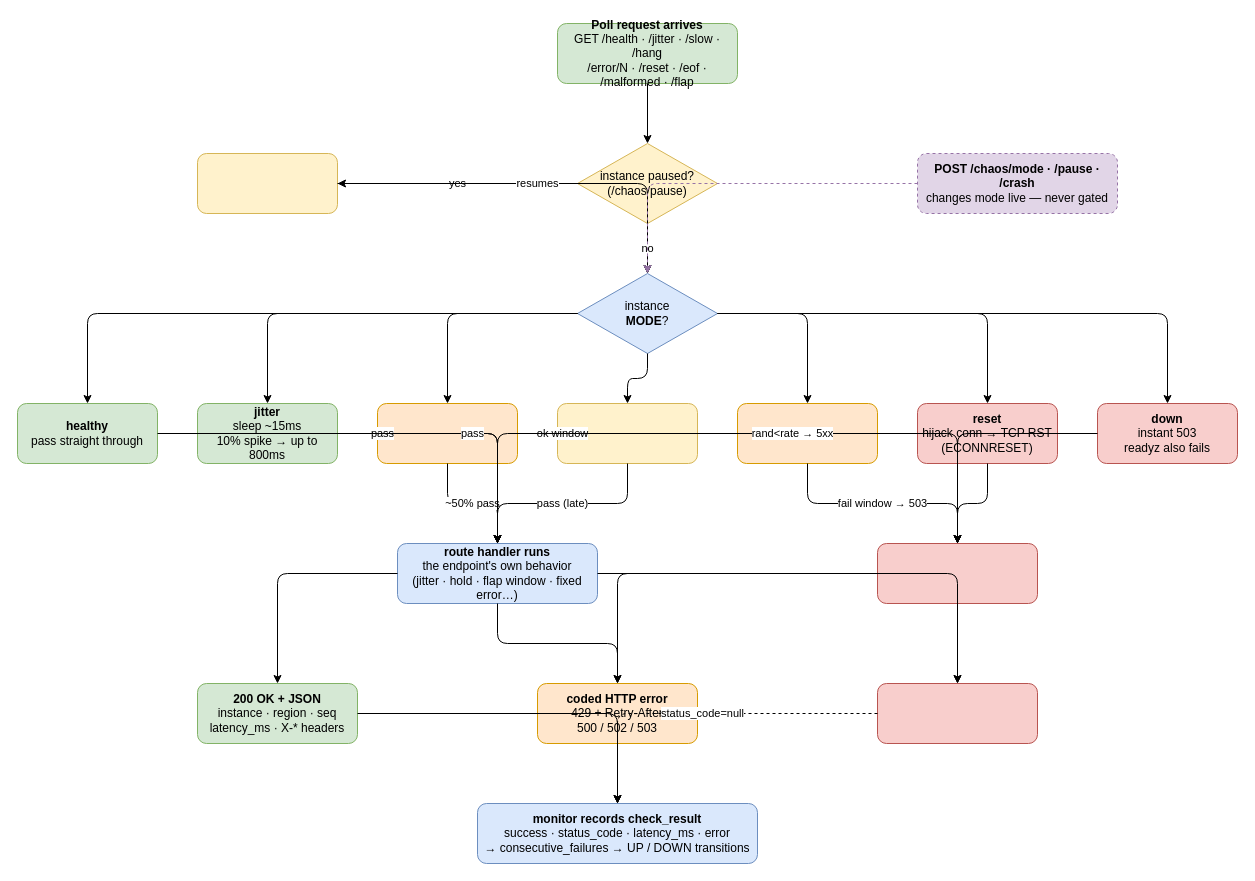
Some shapes in this 1255 by 881 pixel diagram are drawn without their labels. The centre of each missing label's shape, as x and y in pixels:
"degraded +0–400ms; rand < error_rate → 5xx" belongs at (x=447, y=433).
"flapping in fail window → 503 in ok window → pass" belongs at (x=807, y=433).
"frozen: block until pause expires" belongs at (x=267, y=183).
"immediate fault route logic never runs" belongs at (x=957, y=573).
"slow hold SLOW_MS then continue" belongs at (x=627, y=433).
"transport fault RST · mid-stream EOF garbage bytes · silent hang" belongs at (x=957, y=713).
